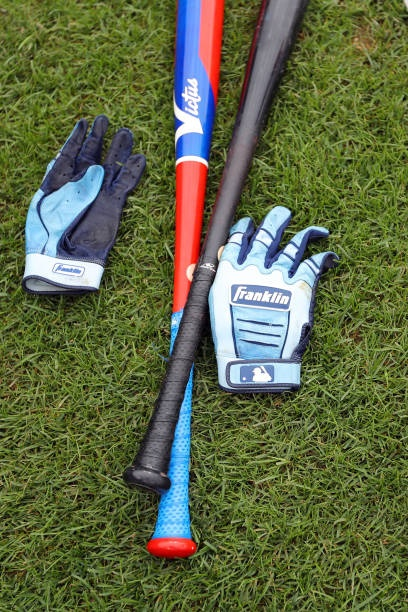bita: (121, 1, 311, 479), (152, 1, 216, 559)
